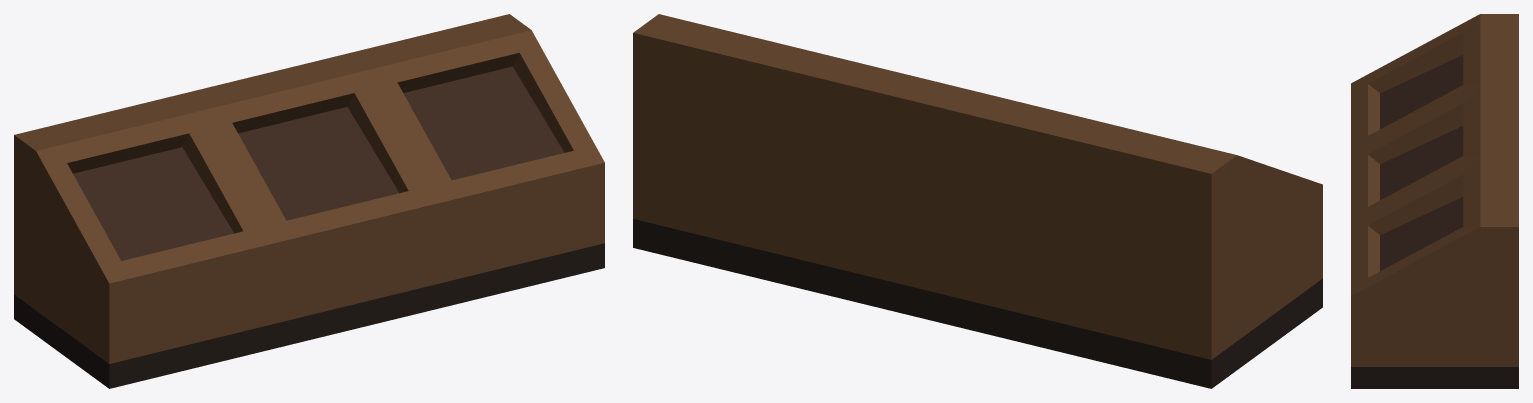
The model's file is bacs_bois.fbx.
The picture shows the model from 3 angles, left to right: view 1: azimuth 30°, elevation 25°; view 2: azimuth 150°, elevation 25°; view 3: azimuth 270°, elevation 25°; orthographic projection. The views are drawn at different scales.
Visible parts, largest first — view 1: Cube; view 2: Cube; view 3: Cube.
Part boxes in pixels (box(x1,y1,x2,y2)): Cube: box(14, 14, 604, 388); Cube: box(633, 14, 1322, 388); Cube: box(1351, 14, 1518, 388).
Size of the model in its own units: 300 by 107 by 100.
